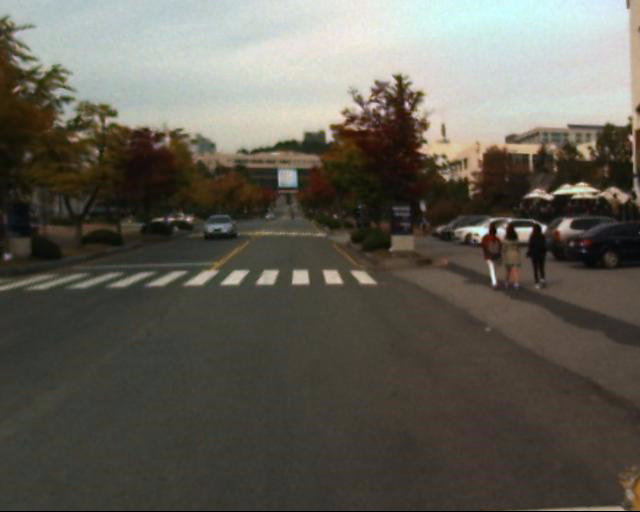person: (482, 219, 513, 302), (497, 216, 528, 298), (529, 217, 559, 296)
